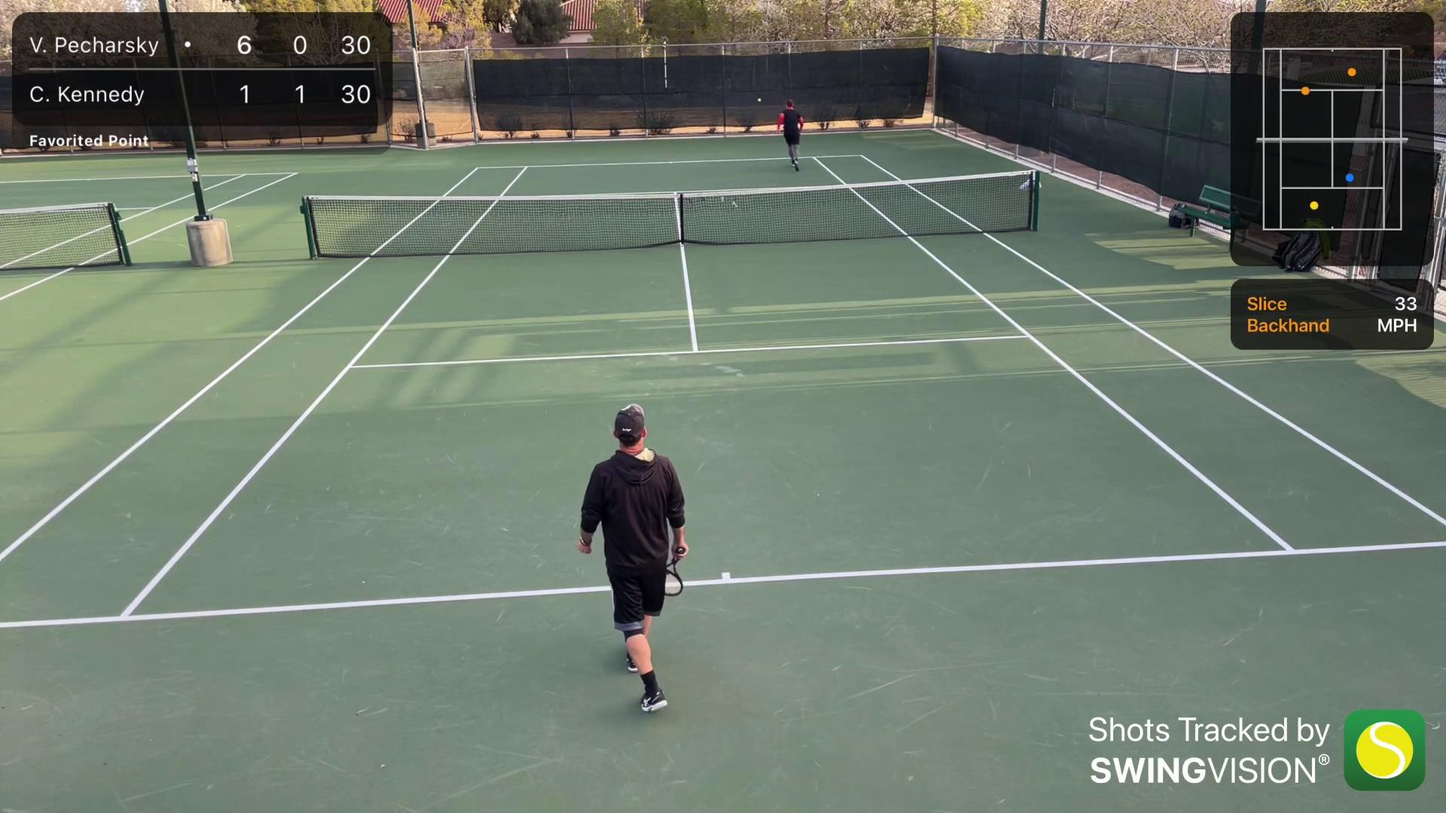ball: (756, 96, 763, 104)
